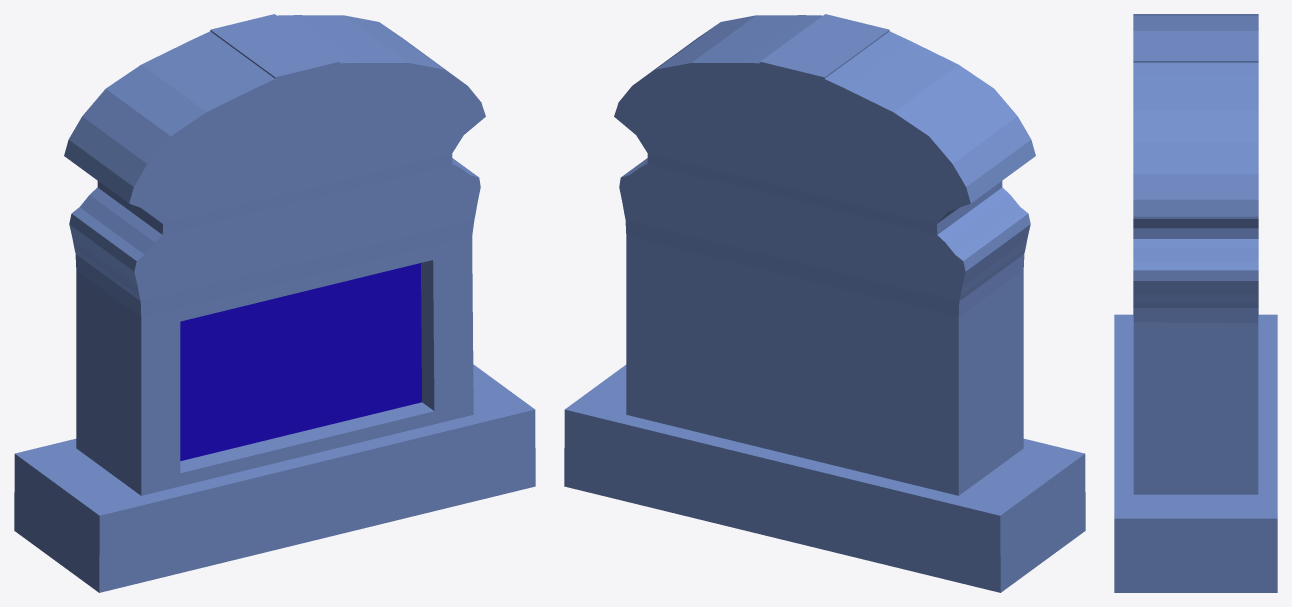
File: gravestone.fbx
3 views of the same model, side by side, from view 1: azimuth 30°, elevation 25°; view 2: azimuth 150°, elevation 25°; view 3: azimuth 270°, elevation 25° (orthographic). The views are drawn at different scales.
Parts seen in each view (by area): view 1: Plane; view 2: Plane; view 3: Plane.
Boxes of the visible parts, bbox=[...] form: Plane: bbox=[14, 14, 535, 592]; Plane: bbox=[564, 14, 1085, 592]; Plane: bbox=[1114, 14, 1277, 592].
Size of the model in its own units: 595 by 603 by 201.
